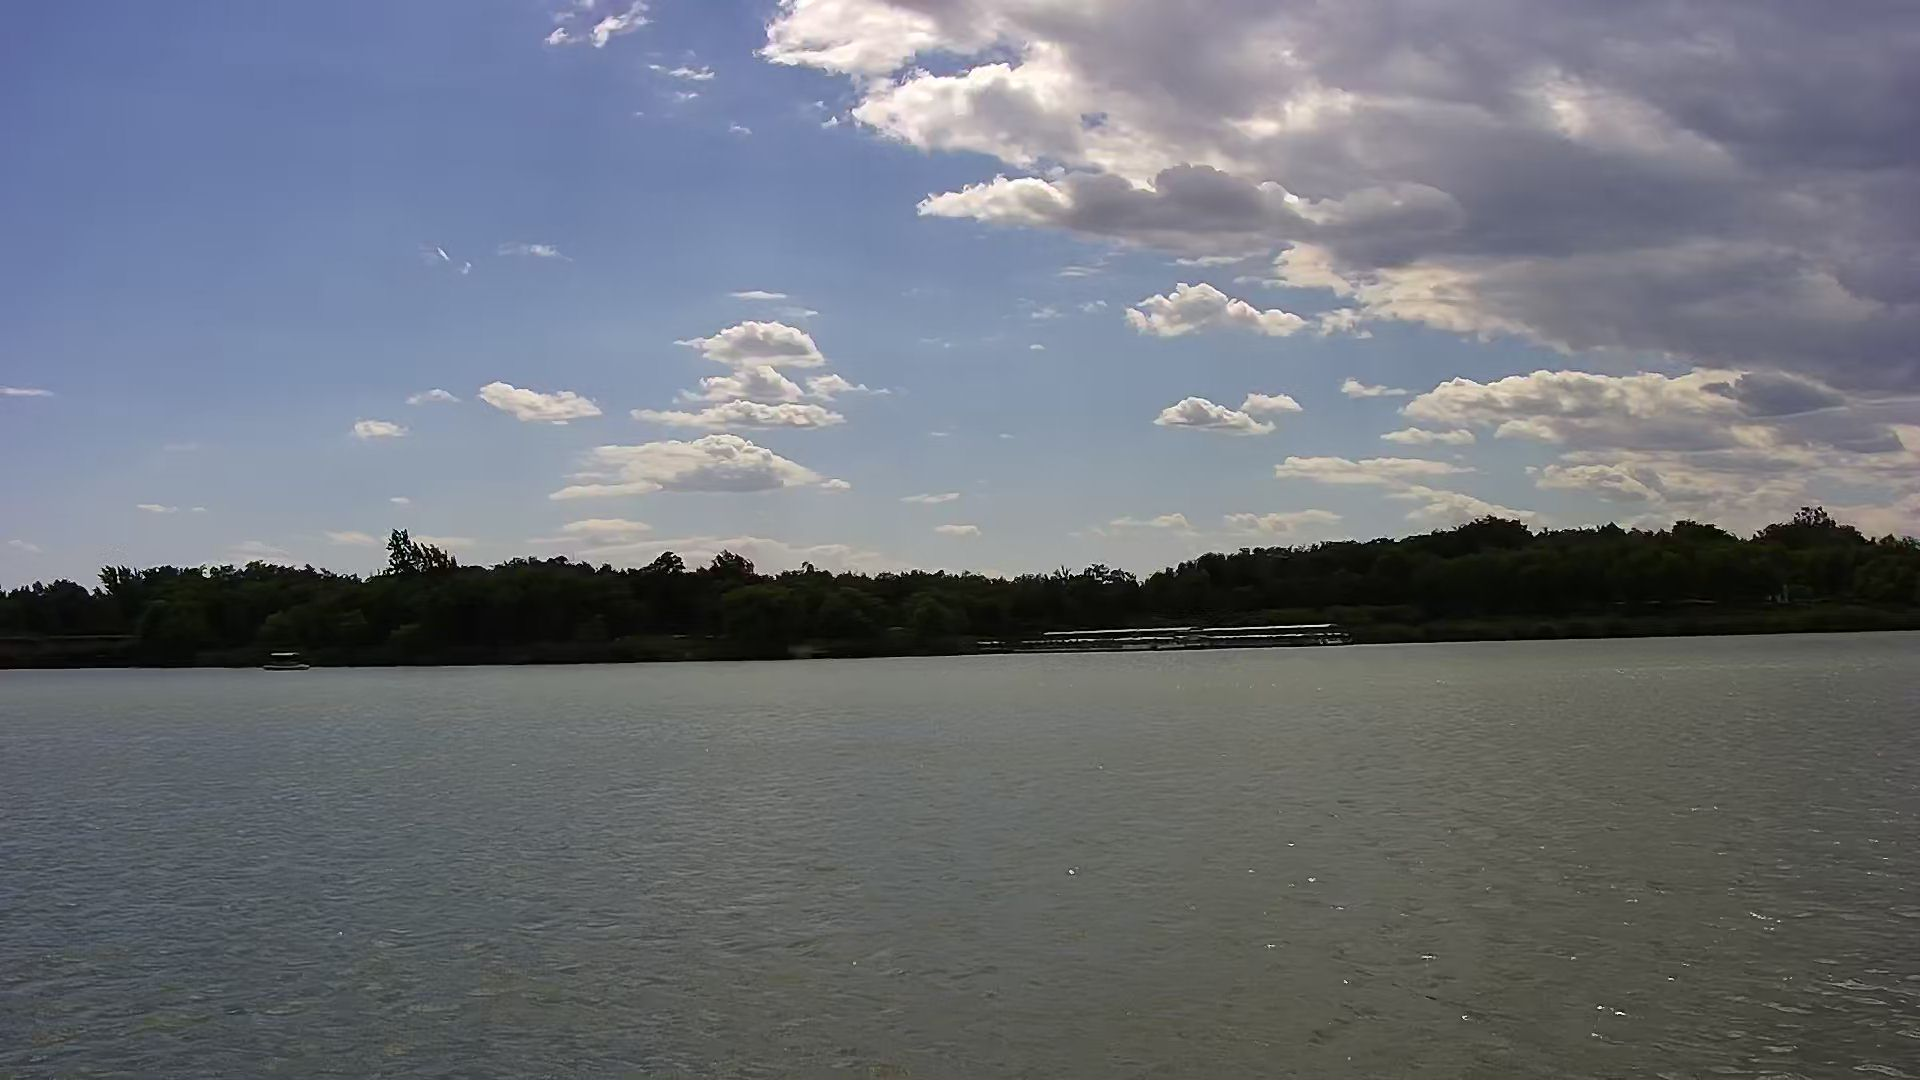boat: (266, 642, 316, 674)
harbor: (980, 615, 1353, 651)
